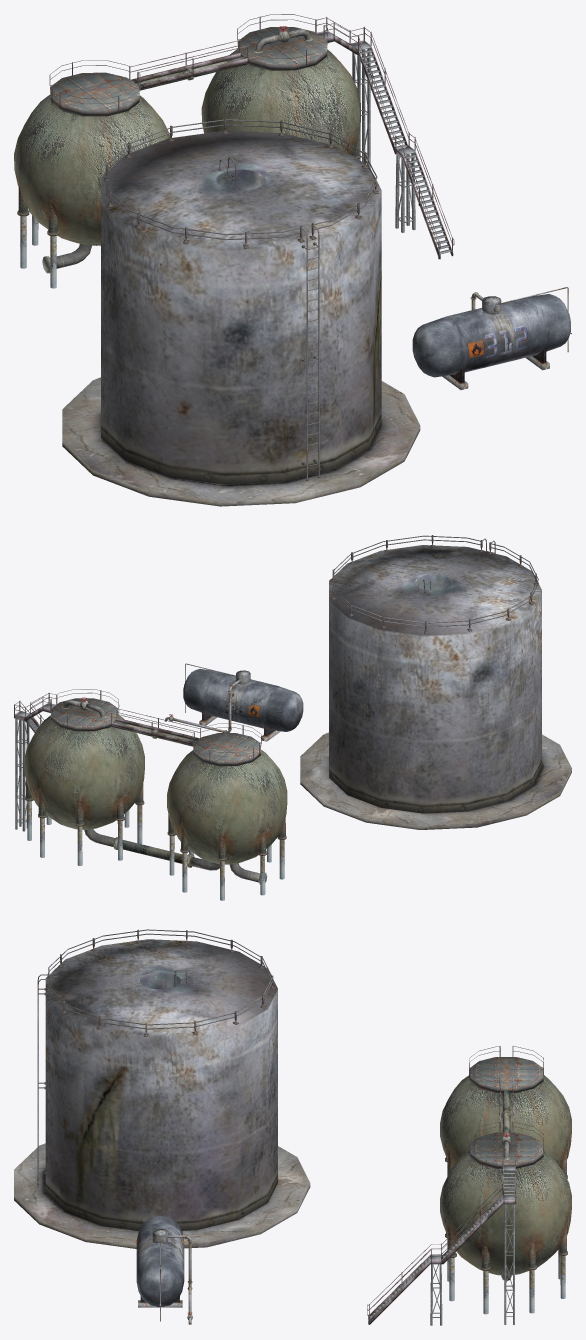
Rendered from obj_tanks.glb.
The picture shows the model from 3 angles, top to bottom: view 1: azimuth 30°, elevation 25°; view 2: azimuth 150°, elevation 25°; view 3: azimuth 270°, elevation 25°; orthographic projection. The views are drawn at different scales.
Parts seen in each view (by area): view 1: body|Large_tank, body|Round_Tank_Material, body|lambert3, body|Long_TankLong_TankA_Material; view 2: body|Large_tank, body|Round_Tank_Material, body|Long_TankLong_TankA_Material, body|lambert3; view 3: body|Large_tank, body|Round_Tank_Material, body|lambert3, body|Long_TankLong_TankA_Material.
Part boxes in pixels (<box>): body|Large_tank: <box>62,118,420,506</box>; body|Round_Tank_Material: <box>14,27,360,288</box>; body|lambert3: <box>42,14,454,273</box>; body|Long_TankLong_TankA_Material: <box>412,287,571,389</box>; body|Large_tank: <box>300,535,571,829</box>; body|Round_Tank_Material: <box>24,698,287,900</box>; body|Long_TankLong_TankA_Material: <box>165,663,303,741</box>; body|lambert3: <box>14,689,267,884</box>; body|Large_tank: <box>14,929,310,1248</box>; body|Round_Tank_Material: <box>440,1057,571,1314</box>; body|lambert3: <box>367,1046,544,1325</box>; body|Long_TankLong_TankA_Material: <box>136,1216,192,1324</box>.
Bounding box in the file's own units: 28.42 × 14.38 × 33.45.
Materials: 5 (5 with a texture image).
